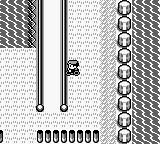captura: (132, 0, 159, 143), (0, 0, 28, 48)
main: (67, 61, 79, 75)
mo: (28, 0, 36, 47)
no-caminable: (116, 0, 132, 143), (37, 129, 99, 143), (0, 130, 3, 143)
